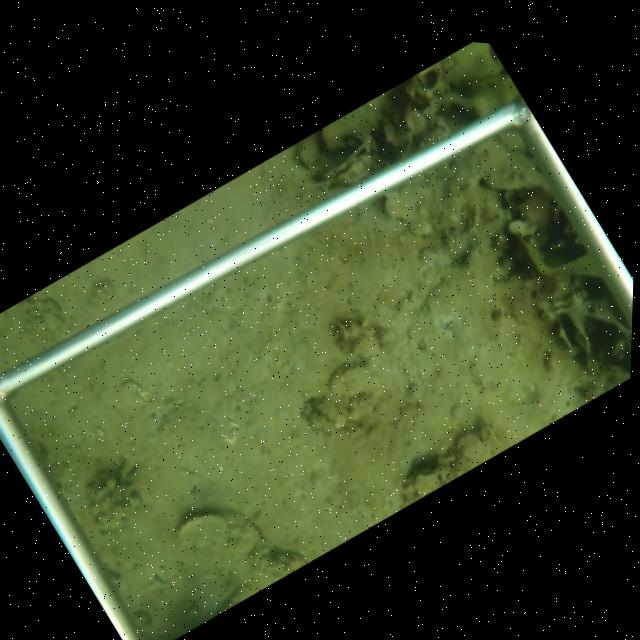Oyster-Indeterminate: (177, 508, 268, 558)
